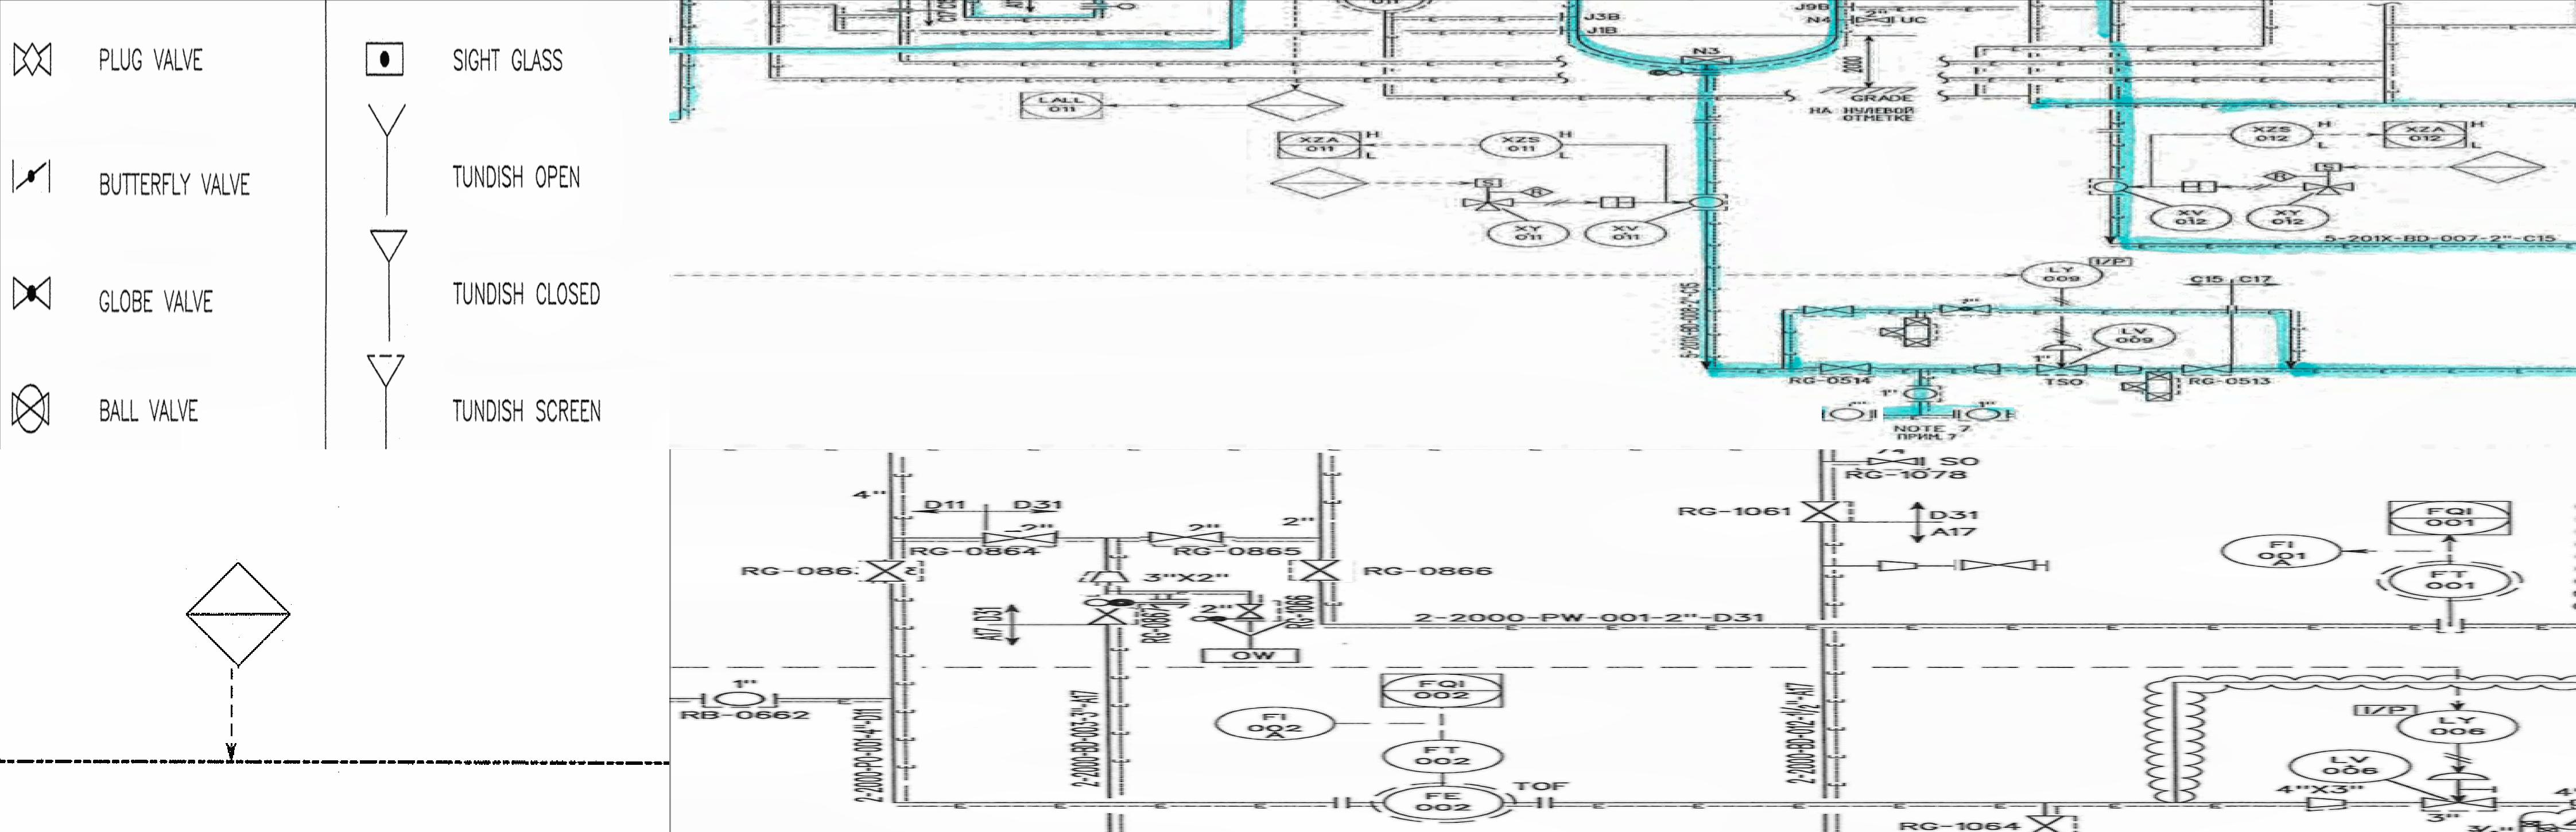2 WAY VALVE: (1203, 313, 1278, 353), (1447, 371, 1515, 405)
3 WAY GENERAL VALVE: (782, 197, 858, 212), (1630, 181, 1695, 197)
BALL VALVE: (11, 382, 49, 437)
BUTTERFLY VALVE: (10, 153, 53, 197)
CONCENTRIC REDUCER: (1298, 359, 1349, 379), (1441, 361, 1477, 376)
DCS ACCESSIBLE: (1704, 117, 1810, 149), (669, 126, 701, 164)
DIAPHRAGM ACTUATED VALVE: (1359, 343, 1424, 376)
FIELD INSTRUMENT: (1413, 322, 1523, 350), (1561, 117, 1648, 151), (1341, 259, 1441, 287), (908, 220, 999, 249), (807, 130, 897, 159), (1575, 203, 1669, 231), (1480, 202, 1566, 230), (816, 220, 902, 246), (1153, 404, 1214, 425), (1411, 177, 1470, 199), (1285, 407, 1345, 423), (1227, 384, 1276, 404), (1012, 194, 1060, 213)
GATE VALVE: (1135, 361, 1209, 377), (1129, 302, 1198, 318), (1508, 361, 1575, 377)
GLOBE VALVE: (10, 272, 53, 310), (1263, 302, 1331, 317)
HARDWIRED INTERLOCK PRIMARY.: (163, 551, 307, 670), (1774, 149, 1888, 187), (669, 166, 711, 202), (1585, 169, 1635, 182), (849, 185, 889, 199)
IP CONVERTER: (1403, 253, 1475, 269)
PLUG VALVE: (10, 39, 53, 77)
SIGHT GLASS: (365, 38, 406, 79)
SPECTACLE BLIND OPEN: (964, 64, 1069, 80)
SPEED FLOW METER: (1638, 159, 1682, 174), (792, 176, 836, 189)
TUNDISH CLOSED: (365, 225, 407, 345)
TUNDISH OPEN: (365, 100, 407, 217)
TUNDISH SCREEN: (365, 350, 406, 450)
